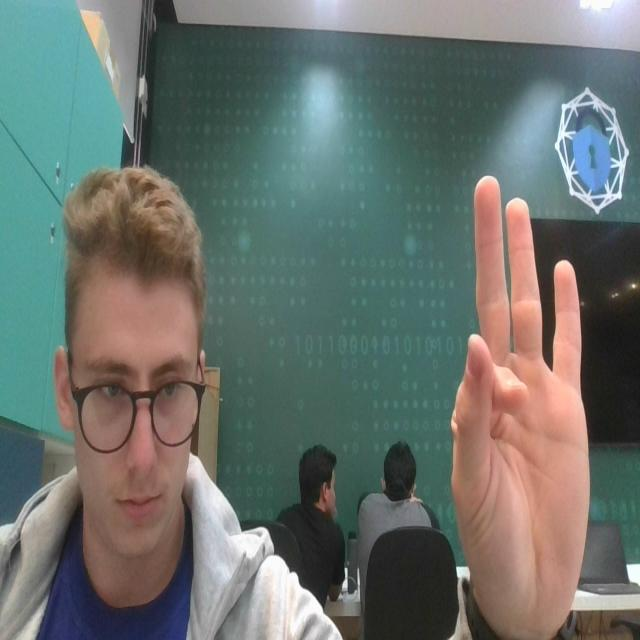F: (446, 165, 597, 640)
